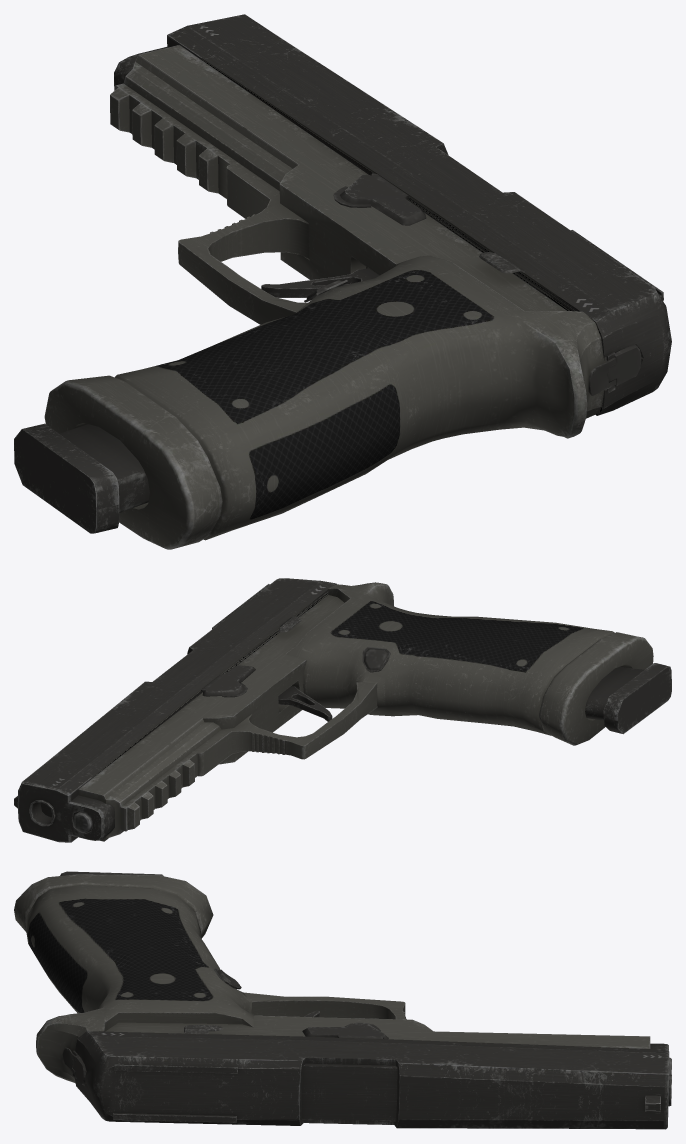
The model's file is weapon_sidearm_p320.glb.
The picture shows the model from 3 angles, top to bottom: view 1: azimuth 30°, elevation 25°; view 2: azimuth 150°, elevation 25°; view 3: azimuth 270°, elevation 25°; orthographic projection. The views are drawn at different scales.
Parts seen in each view (by area): view 1: P320_Handgun; view 2: P320_Handgun; view 3: P320_Handgun.
Boxes of the visible parts, x1,y1,x2,y2 form: P320_Handgun: [14, 14, 671, 549]; P320_Handgun: [14, 578, 671, 842]; P320_Handgun: [14, 871, 671, 1129].
Size of the model in its own units: 0.1973 by 0.0382 by 0.2693.
1 material, 1 textured.
